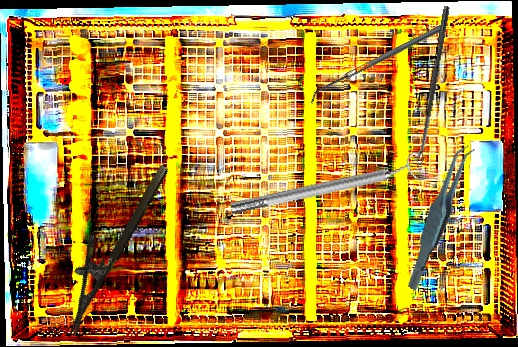Fixation Ring: (227, 149, 428, 224)
Needle Holder: (42, 151, 171, 338)
Spatula Surgical: (306, 24, 448, 104)
Surgical Spoon: (415, 5, 450, 166)
Tissue Forceps: (378, 141, 501, 292)
